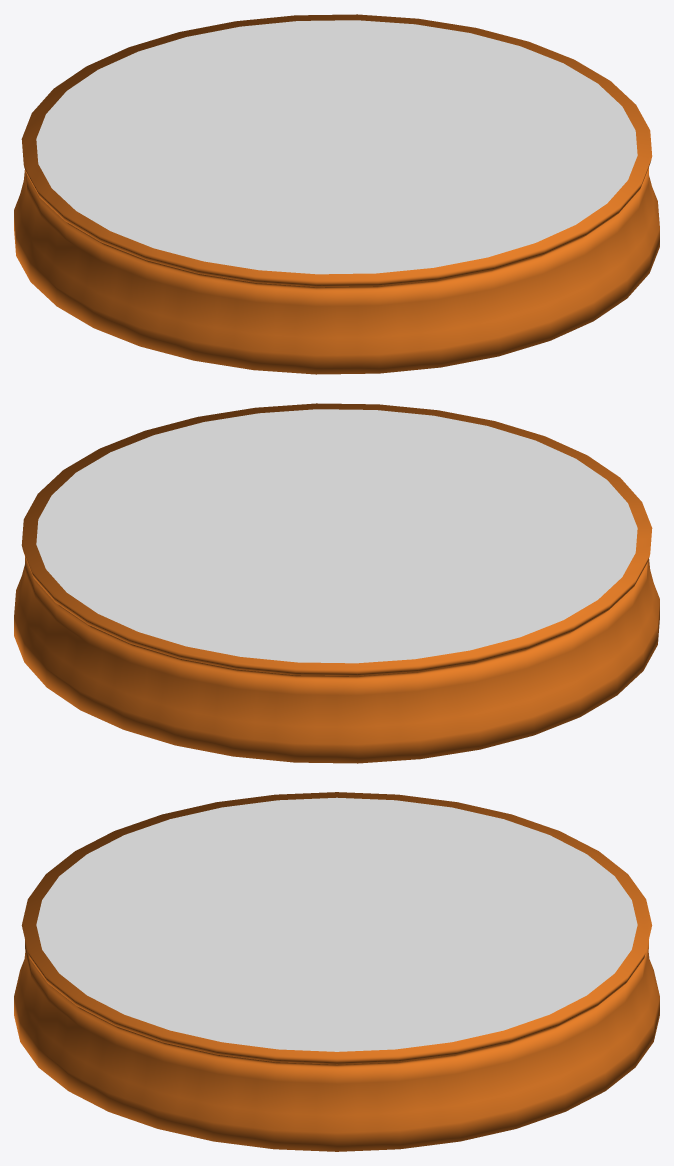
3 views of the same model, one above another, from view 1: azimuth 30°, elevation 25°; view 2: azimuth 150°, elevation 25°; view 3: azimuth 270°, elevation 25° (orthographic).
Visible parts, largest first — view 1: inner base, base; view 2: inner base, base; view 3: inner base, base.
Part boxes in pixels (x1,y1,x2,y2): inner base: (36, 20, 637, 274); base: (14, 14, 659, 374); inner base: (36, 409, 637, 663); base: (14, 403, 659, 763); inner base: (36, 797, 637, 1051); base: (14, 792, 659, 1151).
Size of the model in its own units: 2.38 by 0.368 by 2.38.
